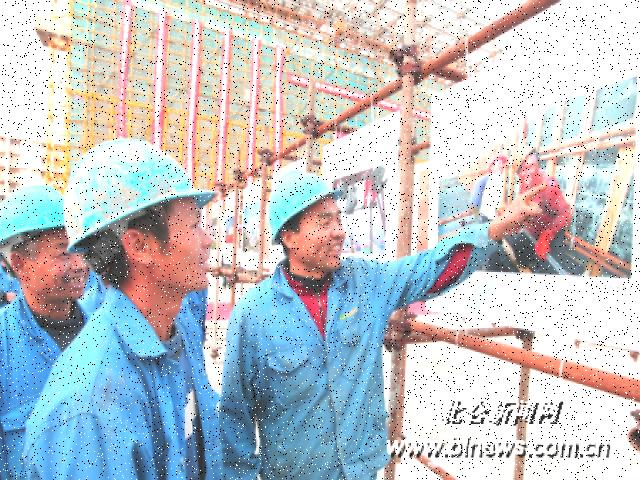Helmet: (58, 131, 219, 256), (262, 163, 346, 248), (0, 179, 68, 251)
